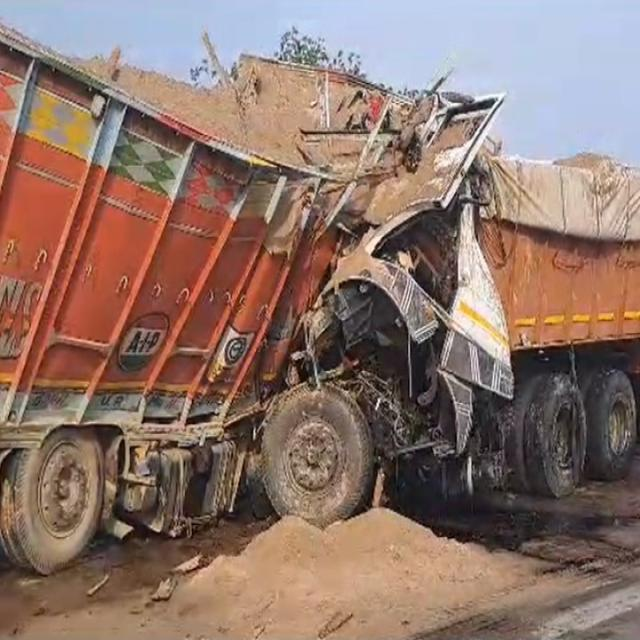accident: (0, 25, 500, 573), (300, 150, 640, 496)
